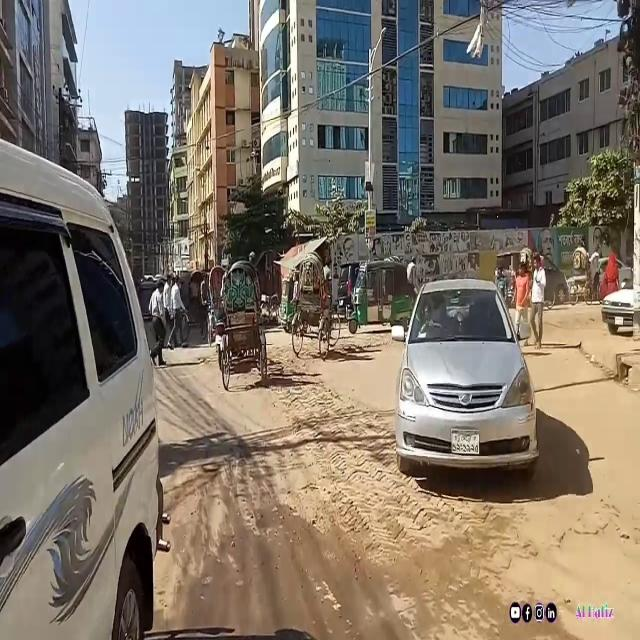silver: (394, 273, 535, 484)
